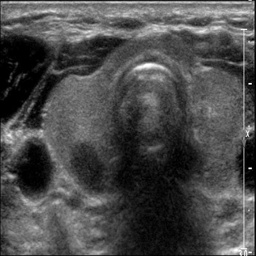mass: (67, 142, 108, 192)
